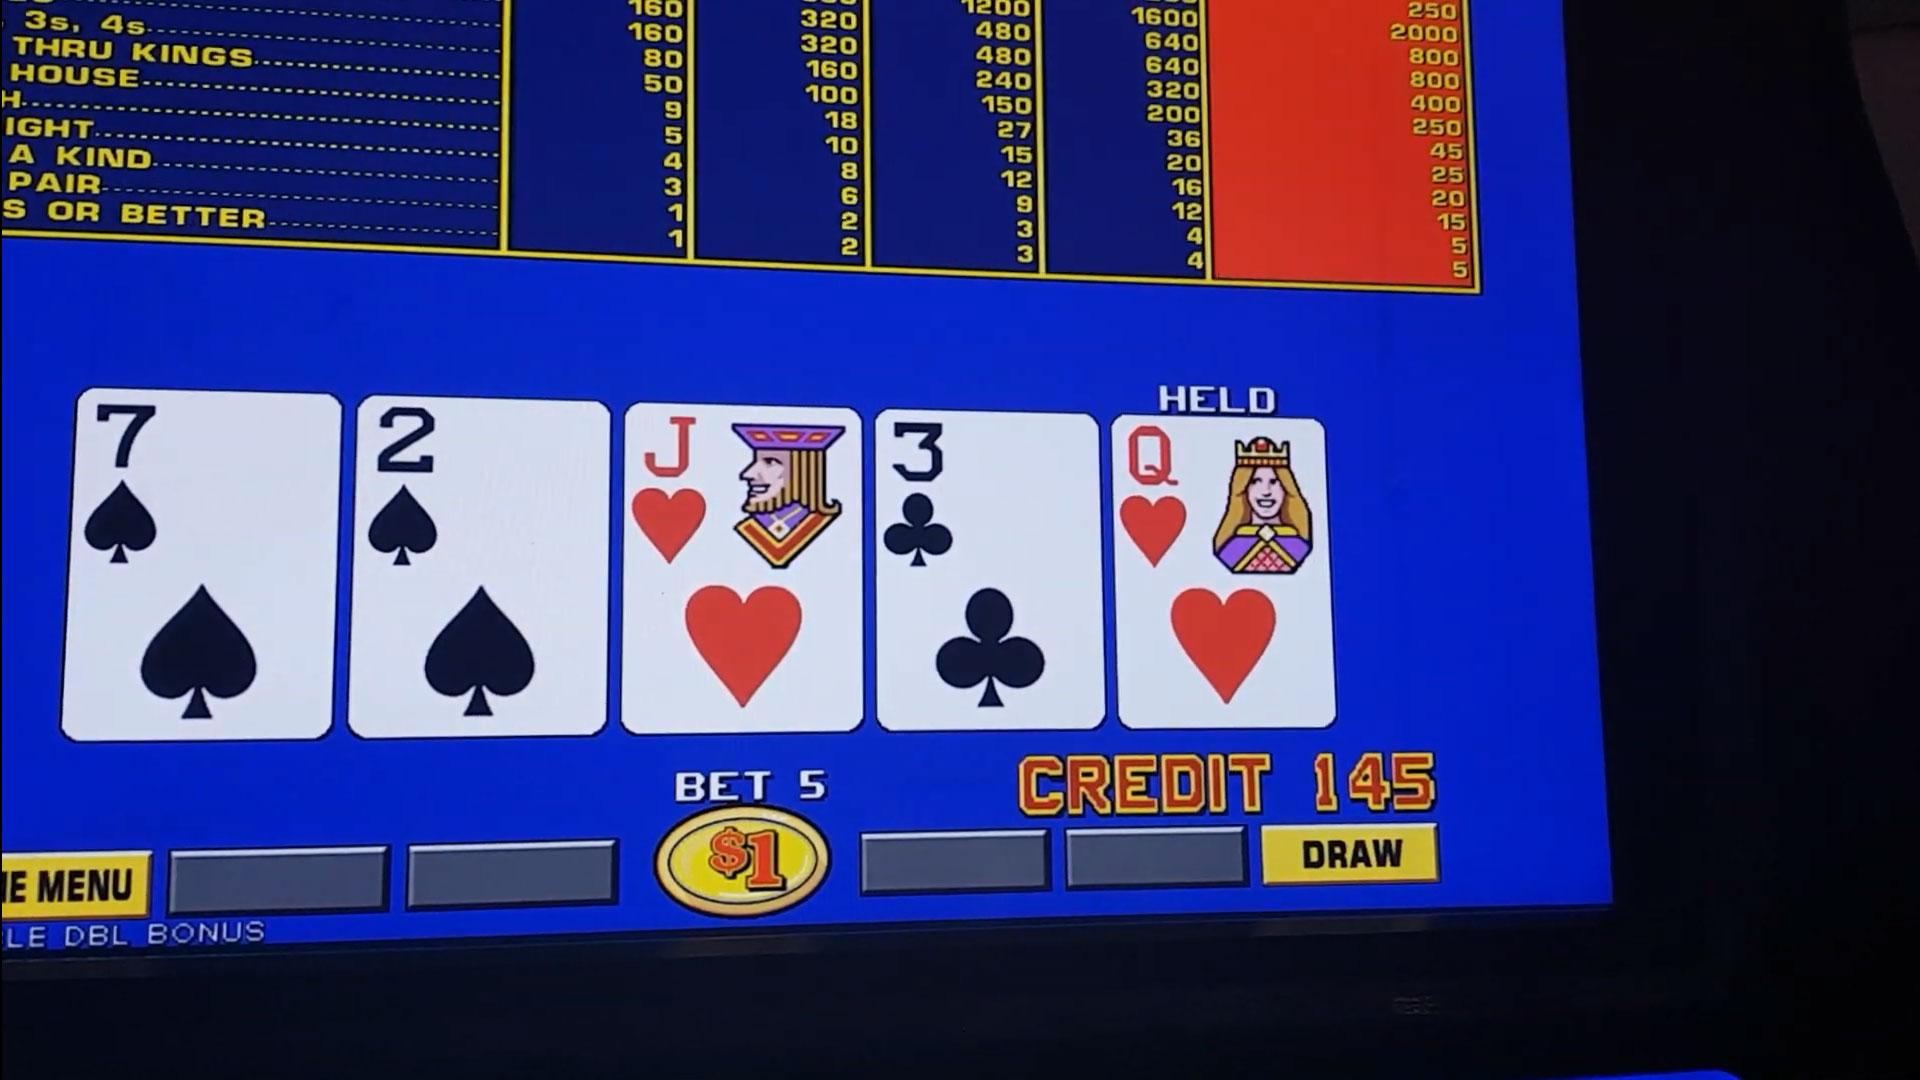C3: (881, 414, 1096, 568)
HJ: (626, 411, 860, 579)
HQ: (1117, 425, 1324, 576)
S2: (359, 407, 607, 583)
S7: (83, 400, 335, 578)
